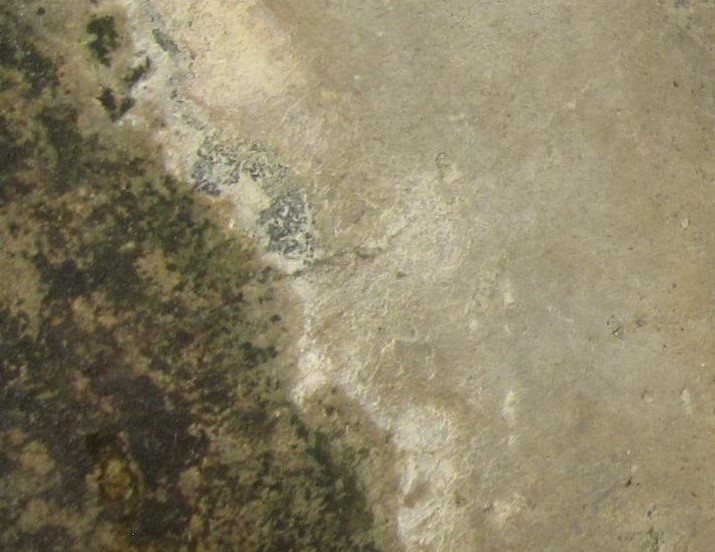Corrosion: (1, 1, 406, 552)
